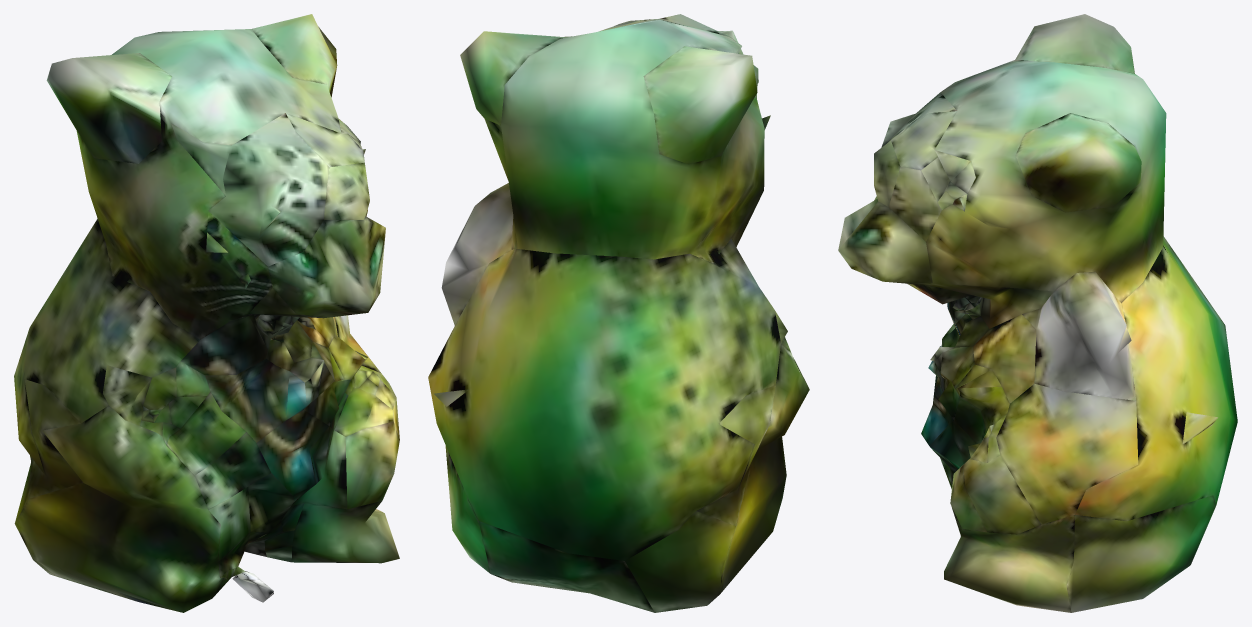
Rendered from jaguar-statue.lod1.glb.
The picture shows the model from 3 angles, left to right: view 1: azimuth 30°, elevation 25°; view 2: azimuth 150°, elevation 25°; view 3: azimuth 270°, elevation 25°; orthographic projection. The views are drawn at different scales.
Parts seen in each view (by area): view 1: Object_5; view 2: Object_5; view 3: Object_5.
Part boxes in pixels (left/top/right/bottom): Object_5: left=14, top=14, right=399, bottom=612; Object_5: left=428, top=14, right=809, bottom=612; Object_5: left=838, top=14, right=1237, bottom=612.
Size of the model in its own units: 0.8426 by 1.39 by 0.9961.
1 material, 1 textured.
